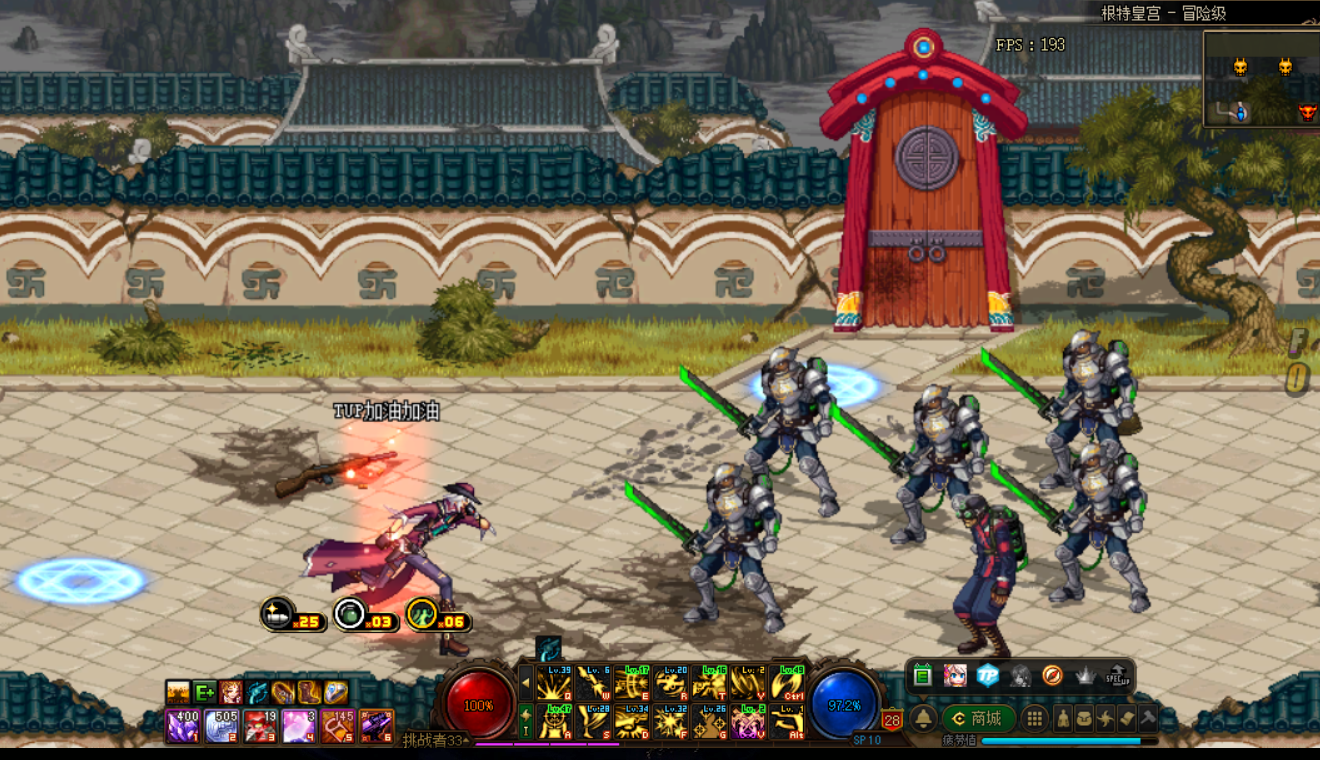monster: (986, 303, 1150, 481), (690, 330, 845, 517), (638, 458, 803, 618), (1008, 440, 1161, 608), (846, 376, 992, 546), (926, 474, 1029, 658)
warrior: (279, 463, 509, 656)
